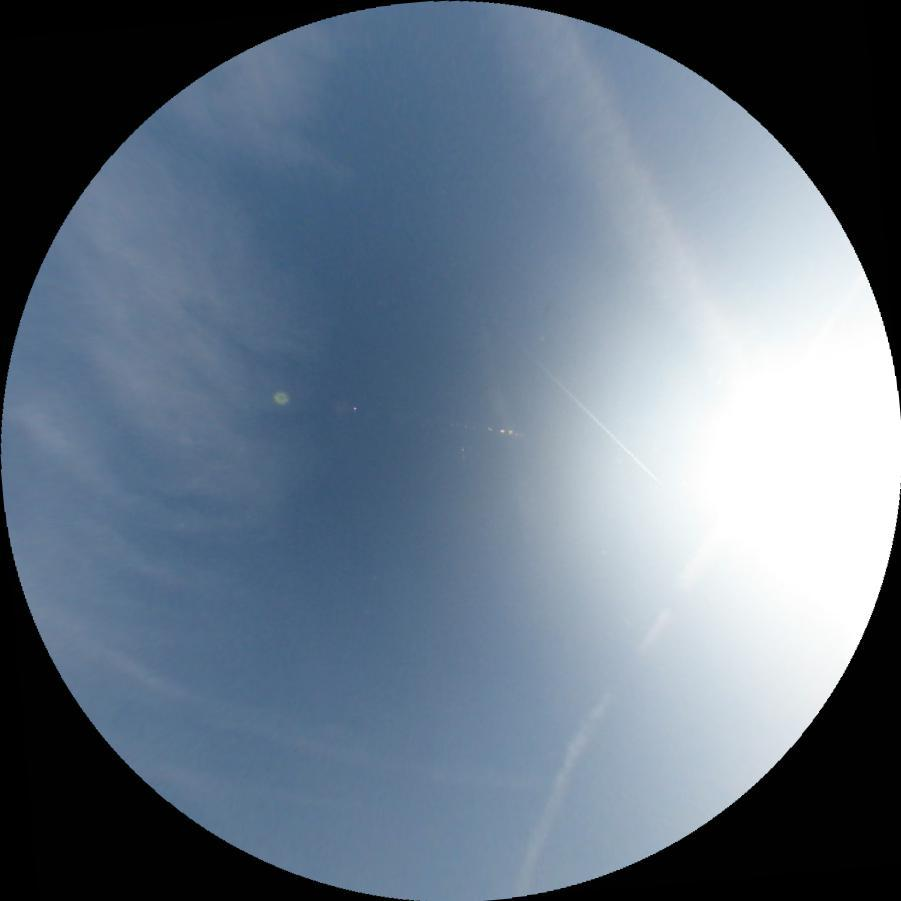contrail old: (497, 590, 675, 899)
contrail veryold: (502, 0, 754, 396), (87, 647, 528, 804)
contrail young: (523, 349, 662, 485)
